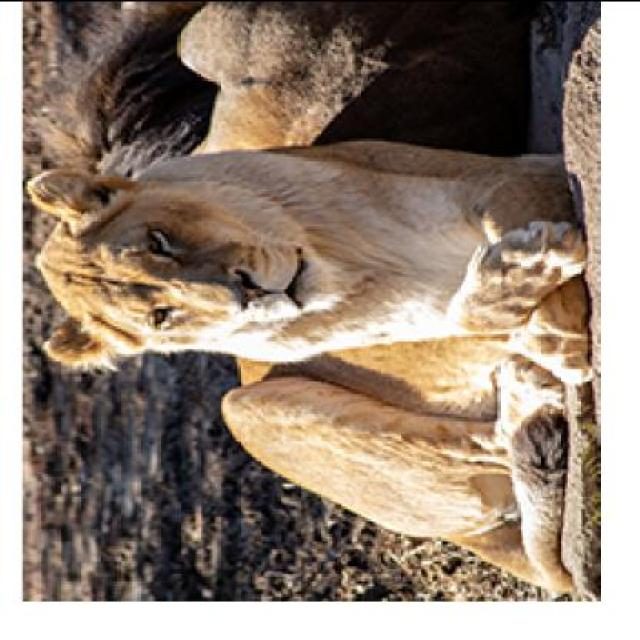Lion: (15, 135, 588, 612)
